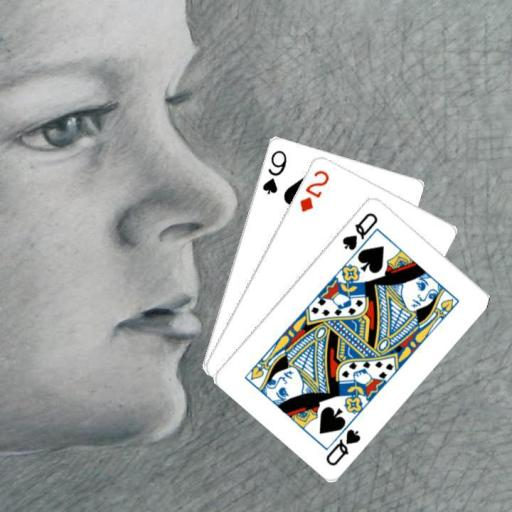2D: (297, 167, 331, 214)
9S: (259, 147, 288, 196)
QS: (339, 209, 380, 252), (322, 425, 362, 467)
